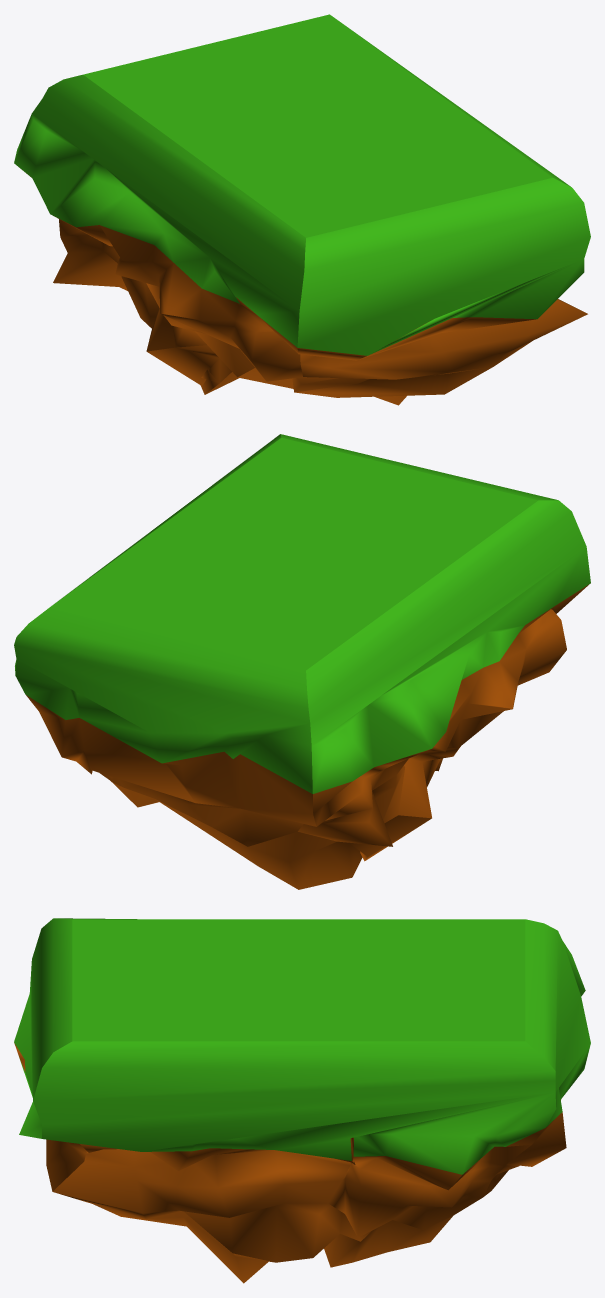
Rendered from simplePlatform.FBX.
3 renders of one model, top to bottom at view 1: azimuth 30°, elevation 25°; view 2: azimuth 150°, elevation 25°; view 3: azimuth 270°, elevation 25°, orthographic. The views are drawn at different scales.
Visible parts, largest first — view 1: Box001; view 2: Box001; view 3: Box001.
Boxes of the visible parts, x1=… form: Box001: x1=14, y1=14, x2=590, y2=405; Box001: x1=14, y1=434, x2=590, y2=889; Box001: x1=14, y1=918, x2=590, y2=1283.
Size of the model in its own units: 59.17 by 39.99 by 75.55.
